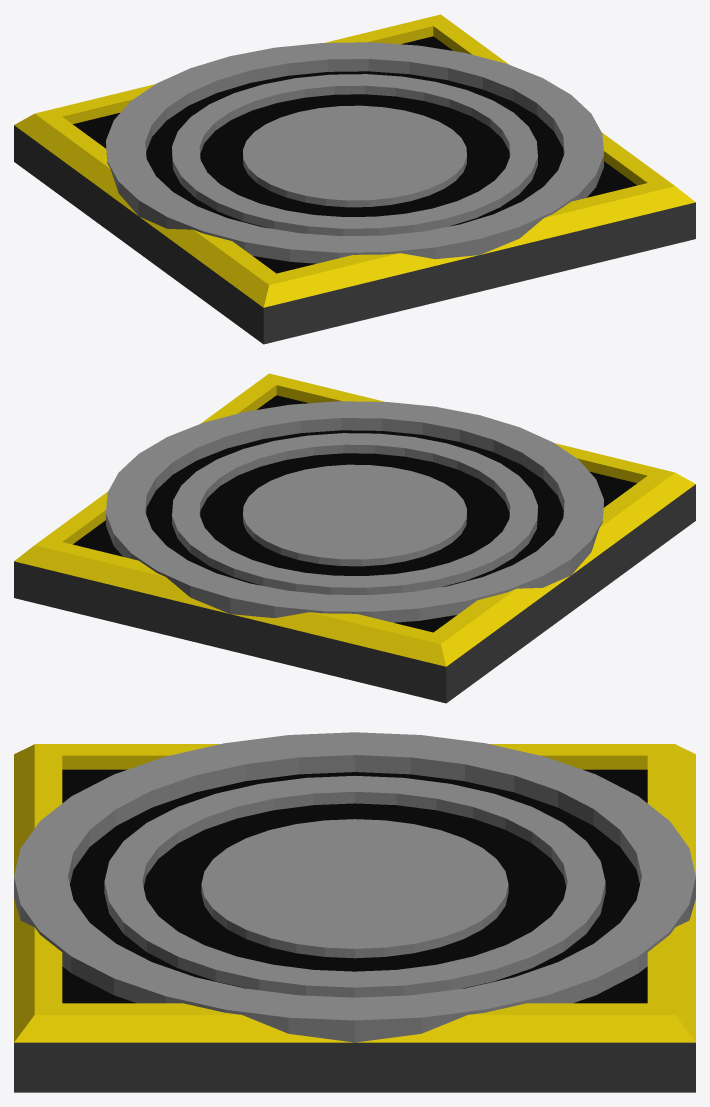
Rendered from ElevatorDesign.fbx.
3 views of the same model, one above another, from view 1: azimuth 30°, elevation 25°; view 2: azimuth 150°, elevation 25°; view 3: azimuth 270°, elevation 25° (orthographic). The views are drawn at different scales.
Parts seen in each view (by area): view 1: Cube.001, Cube; view 2: Cube.001, Cube; view 3: Cube.001, Cube.
Part boxes in pixels (<box>): Cube.001: <box>106,42,603,263</box>; Cube: <box>14,14,695,344</box>; Cube.001: <box>106,401,603,622</box>; Cube: <box>14,373,695,703</box>; Cube.001: <box>14,732,695,1042</box>; Cube: <box>14,744,695,1092</box>.
Size of the model in its own units: 200 by 44.58 by 200.
